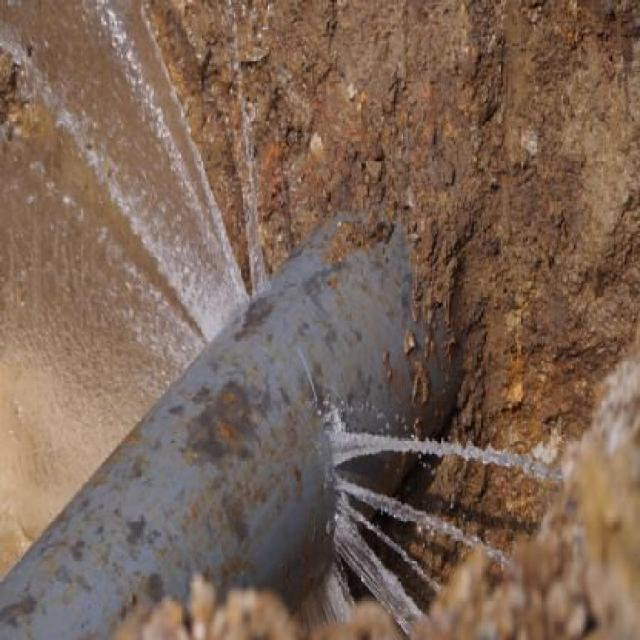pipe burst: (3, 5, 280, 387), (269, 418, 564, 632)
